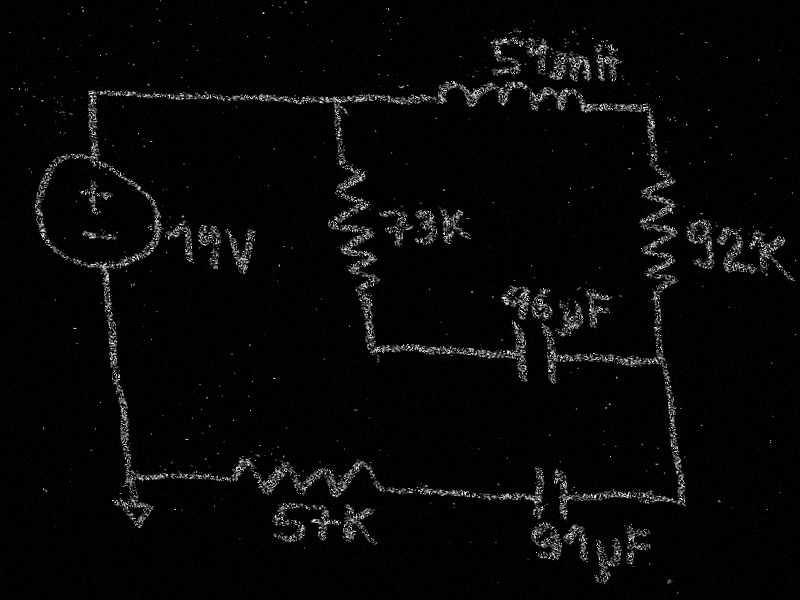-: (79, 228, 119, 243)
1: (163, 218, 196, 267), (561, 522, 593, 566)
2: (714, 225, 757, 277)
3: (412, 206, 438, 248)
4: (196, 221, 224, 272), (498, 281, 532, 323), (523, 35, 548, 77)
5: (269, 498, 313, 546), (486, 35, 526, 78)
6: (529, 284, 554, 323)
7: (376, 208, 415, 249), (308, 503, 342, 545)
9: (681, 217, 718, 275), (528, 519, 564, 563)
F: (623, 524, 654, 571), (584, 291, 614, 332)
H: (590, 41, 622, 86)
V: (222, 227, 260, 275)
k: (753, 228, 794, 283), (341, 501, 377, 548), (437, 206, 475, 246)
m: (547, 48, 594, 86)
u: (591, 536, 625, 587), (552, 299, 585, 340)
